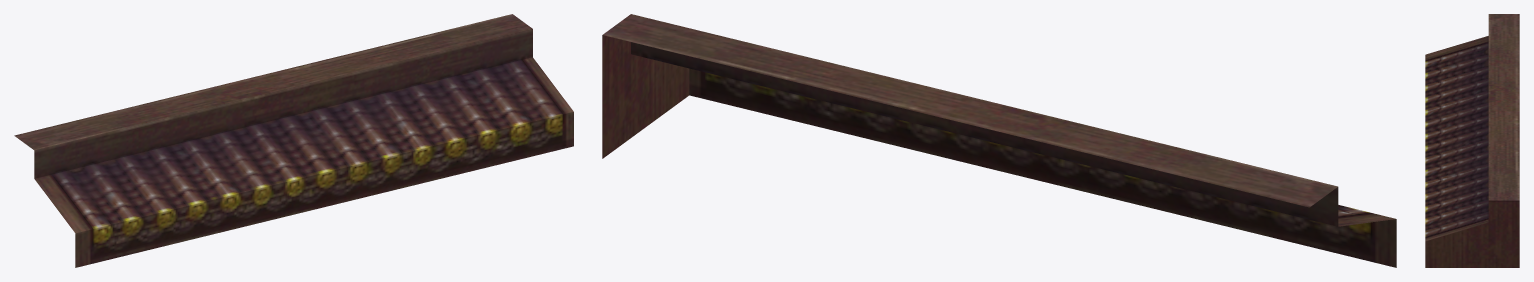
The model's file is fb_cangjingge_wuyan01.FBX.
3 renders of one model, left to right at view 1: azimuth 30°, elevation 25°; view 2: azimuth 150°, elevation 25°; view 3: azimuth 270°, elevation 25°, orthographic. The views are drawn at different scales.
Parts seen in each view (by area): view 1: fb_cangjingge_wuyan01; view 2: fb_cangjingge_wuyan01; view 3: fb_cangjingge_wuyan01.
Boxes of the visible parts, box(x1,y1,x2,y2) form: fb_cangjingge_wuyan01: box(14, 14, 573, 267); fb_cangjingge_wuyan01: box(602, 14, 1396, 267); fb_cangjingge_wuyan01: box(1425, 14, 1519, 267).
Size of the model in its own units: 542 by 90.89 by 116.
